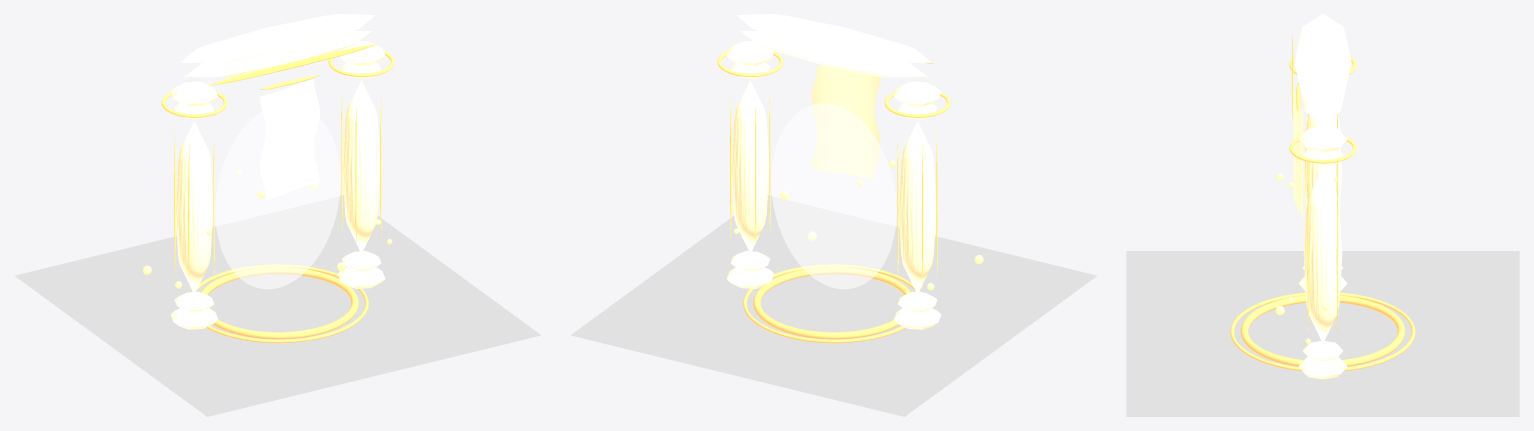
The model's file is entrance_sanctum_r2_v3.glb.
3 renders of one model, left to right at view 1: azimuth 30°, elevation 25°; view 2: azimuth 150°, elevation 25°; view 3: azimuth 270°, elevation 25°, orthographic.
Visible parts, largest first — view 1: sanctum_floor, sanctum_portal, sanctum_banner, sanctum_p0_s, sanctum_p1_s, sanctum_lintel_top, sanctum_lintel, sanctum_ring, sanctum_ring2, sanctum_lintel_trim, sanctum_p0_c2, sanctum_p0_b1 (+4 smaller); view 2: sanctum_floor, sanctum_portal, sanctum_banner, sanctum_p0_s, sanctum_p1_s, sanctum_lintel_top, sanctum_lintel, sanctum_ring, sanctum_ring2, sanctum_p0_c2, sanctum_p1_c2, sanctum_p0_b1 (+3 smaller); view 3: sanctum_floor, sanctum_p1_s, sanctum_lintel_top, sanctum_ring, sanctum_ring2, sanctum_p0_s, sanctum_banner, sanctum_p1_c2, sanctum_p1_b1, sanctum_p1_b2, sanctum_lintel, sanctum_p1_tr (+1 smaller).
Boxes of the visible parts, x1,y1,x2,y2 form: sanctum_floor: (15, 195, 541, 416); sanctum_portal: (215, 111, 340, 289); sanctum_banner: (260, 79, 319, 199); sanctum_p0_s: (175, 121, 213, 294); sanctum_p1_s: (342, 80, 380, 253); sanctum_lintel_top: (181, 14, 374, 63); sanctum_lintel: (184, 31, 371, 77); sanctum_ring: (201, 267, 358, 339); sanctum_ring2: (191, 264, 368, 343); sanctum_lintel_trim: (206, 44, 378, 86); sanctum_p0_c2: (170, 81, 218, 106); sanctum_p0_b1: (170, 308, 218, 329); sanctum_floor: (570, 195, 1096, 416); sanctum_portal: (771, 103, 896, 289); sanctum_banner: (811, 64, 880, 178); sanctum_p0_s: (898, 121, 936, 294); sanctum_p1_s: (731, 80, 769, 253); sanctum_lintel_top: (737, 14, 930, 63); sanctum_lintel: (740, 31, 927, 77); sanctum_ring: (753, 267, 910, 339); sanctum_ring2: (743, 264, 920, 343); sanctum_p0_c2: (893, 81, 941, 106); sanctum_p1_c2: (726, 40, 773, 65); sanctum_p0_b1: (893, 308, 941, 329); sanctum_floor: (1126, 251, 1519, 416); sanctum_p1_s: (1303, 167, 1342, 343); sanctum_lintel_top: (1294, 14, 1351, 110); sanctum_ring: (1240, 295, 1405, 366); sanctum_ring2: (1230, 292, 1415, 371); sanctum_p0_s: (1303, 115, 1342, 210); sanctum_banner: (1293, 89, 1302, 220); sanctum_p1_c2: (1298, 126, 1347, 152); sanctum_p1_b1: (1298, 357, 1347, 379); sanctum_p1_b2: (1303, 341, 1342, 361); sanctum_lintel: (1302, 98, 1343, 124); sanctum_p1_tr: (1289, 137, 1356, 163).
Bounding box in the file's own units: 8 × 6.25 × 8.
